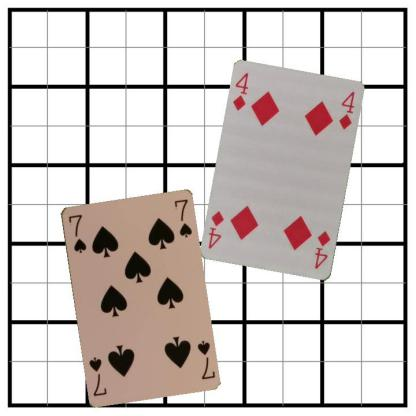4d: (312, 228, 332, 271), (230, 70, 249, 112)
7s: (194, 337, 216, 381), (66, 212, 88, 254)
